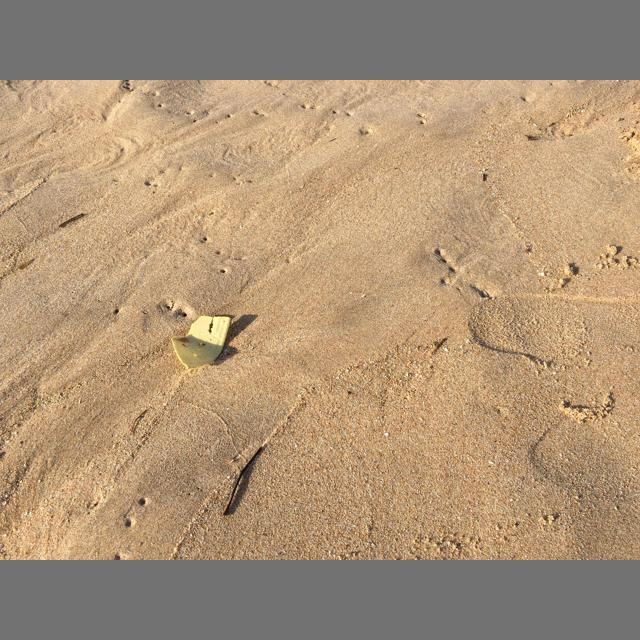litter: (172, 316, 231, 369)
